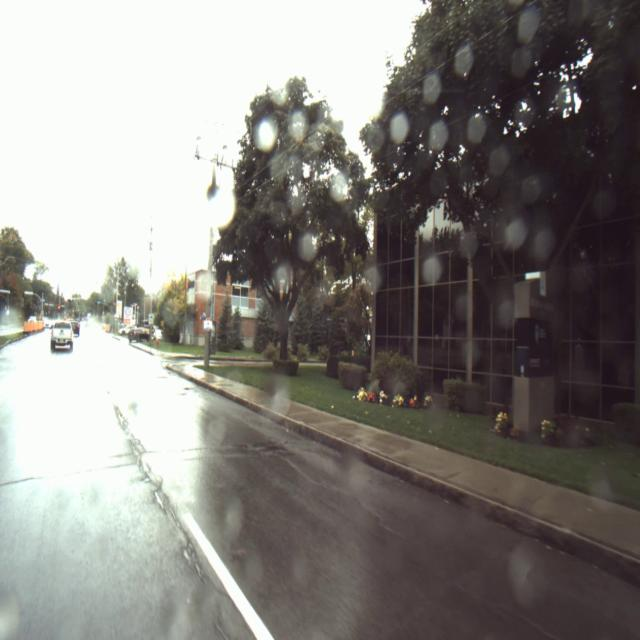car: (51, 321, 73, 354), (128, 328, 147, 343), (70, 321, 80, 336)
trafficLight: (57, 304, 62, 311)
